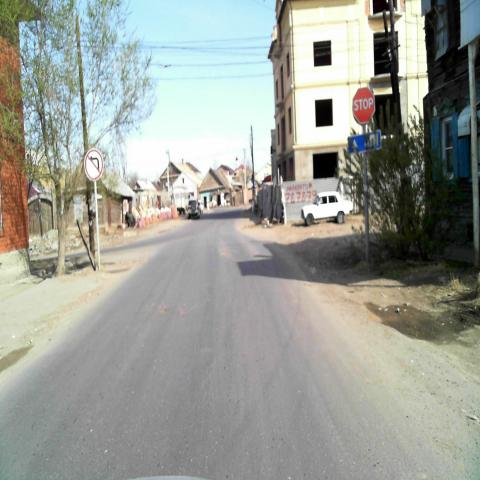3_18_2: (84, 148, 104, 182)
6_15_1: (346, 131, 382, 152)
